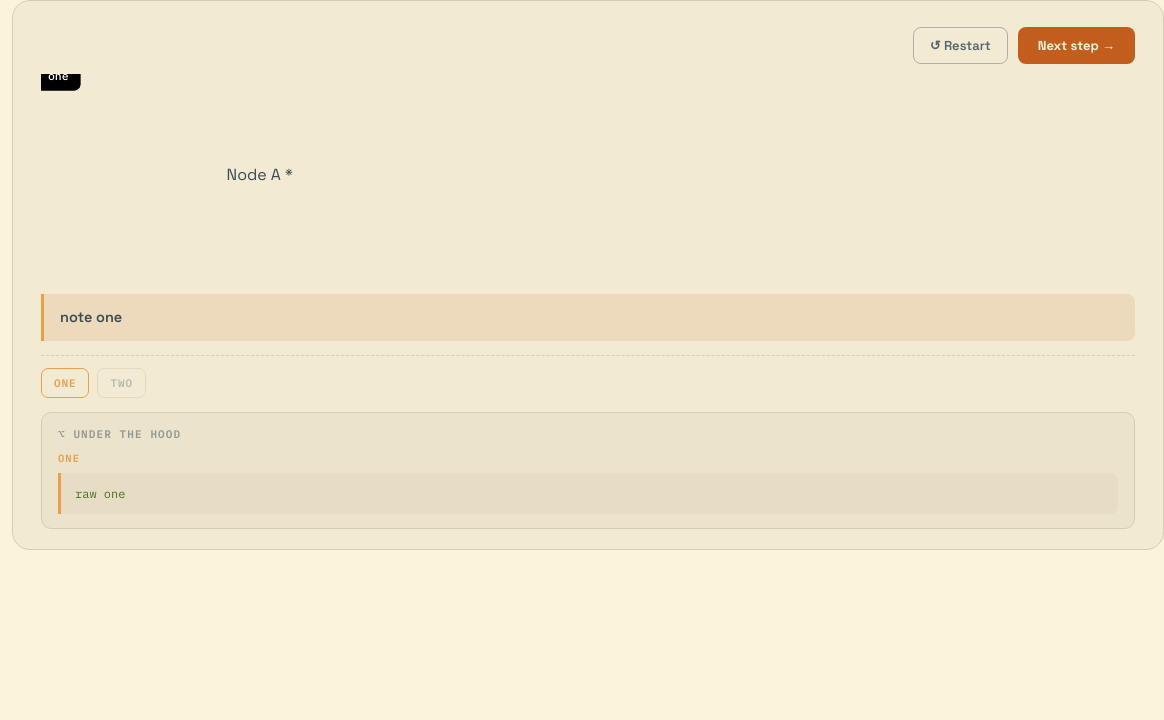
Scenario: FlowDiagram › advances with the Next button and stops at the end
Click the button "Next step →" at (1076, 46), box [1018,27,1135,64]
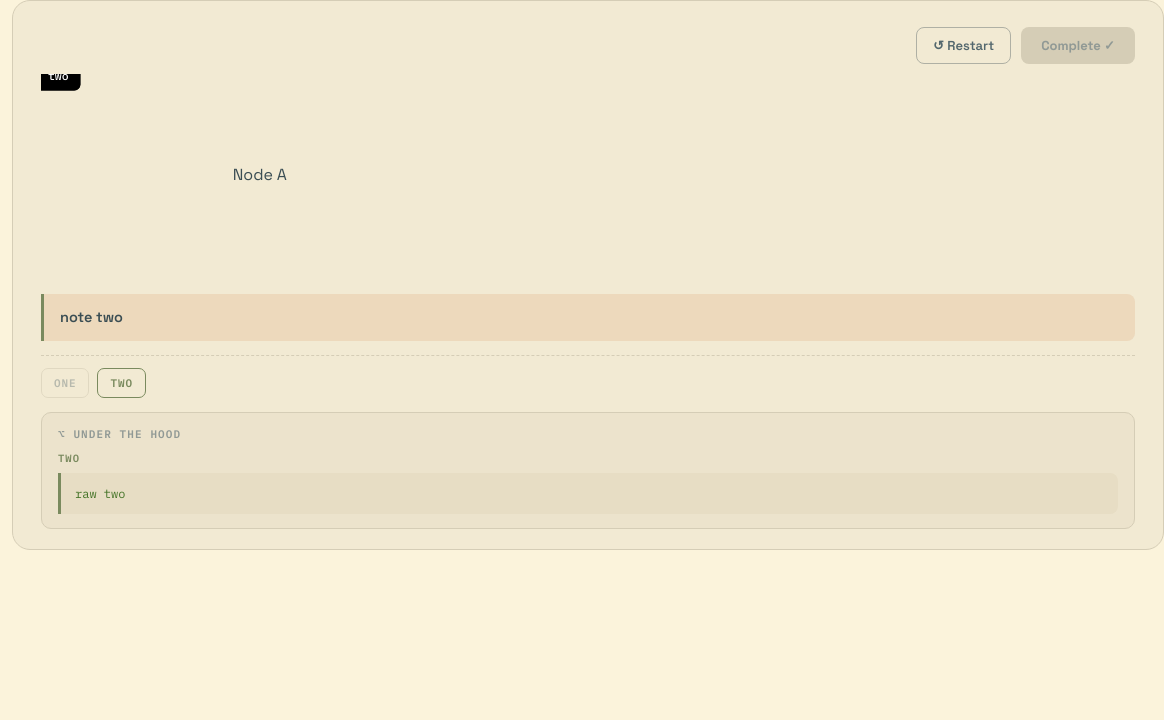
Check: the text "note two" is shown, box [41,294,1135,341]
Check: the button "Complete ✓" is disabled, box [1021,27,1135,64]
